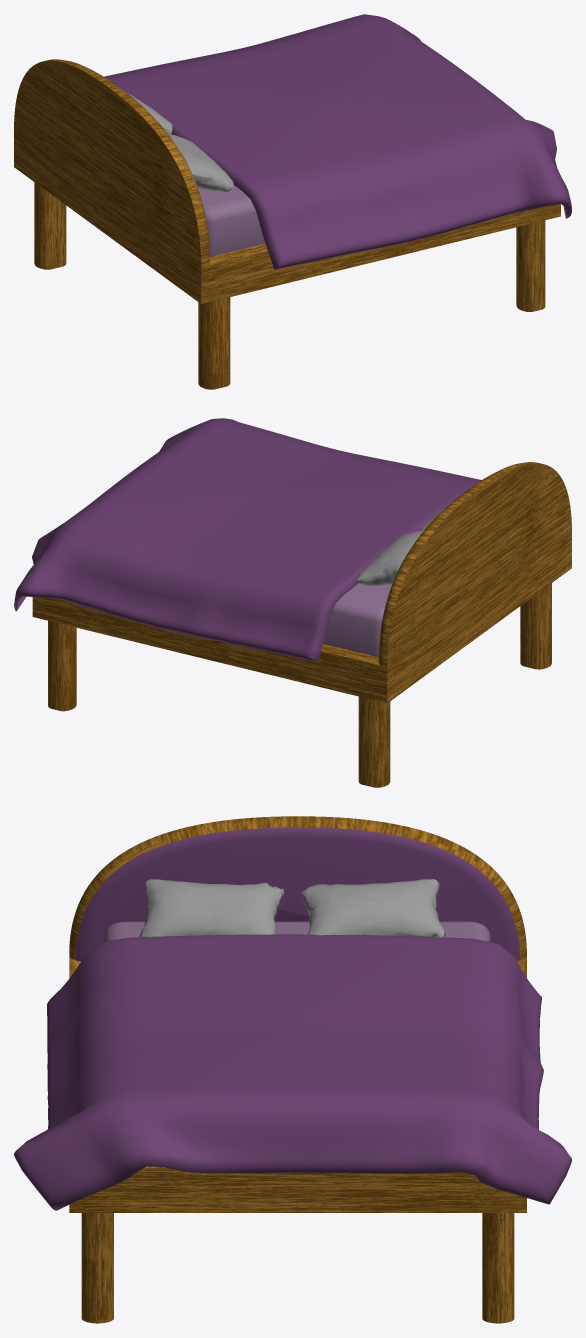
File: Bed.FBX
3 views of the same model, one above another, from view 1: azimuth 30°, elevation 25°; view 2: azimuth 150°, elevation 25°; view 3: azimuth 270°, elevation 25° (orthographic). The views are drawn at different scales.
Parts seen in each view (by area): view 1: Plane002, Box002, ChamferBox001, Rectangle001; view 2: Plane002, Box002, ChamferBox001, Rectangle002; view 3: Plane002, Box002, Rectangle002, Rectangle001, ChamferBox001.
Part boxes in pixels (x1,y1,x2,y2): Plane002: (104,14,571,269); Box002: (14,59,560,389); ChamferBox001: (198,185,265,256); Rectangle001: (168,134,234,192); Plane002: (14,418,481,661); Box002: (32,462,571,787); ChamferBox001: (323,583,391,656); Rectangle002: (355,530,423,585); Plane002: (14,934,571,1210); Box002: (69,816,526,1323); Rectangle002: (300,879,445,937); Rectangle001: (139,879,284,937); ChamferBox001: (104,921,490,942).
Size of the model in its own units: 64.31 by 38.88 by 66.36.
Materials: 4 (3 with a texture image).
